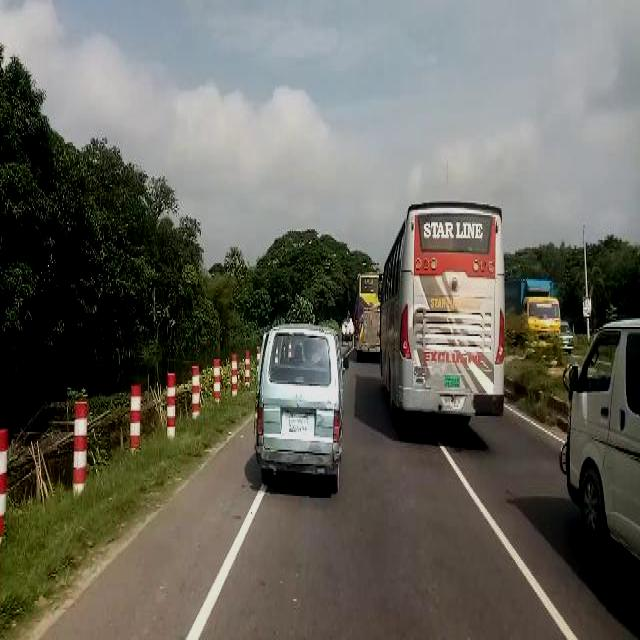BUS: (382, 193, 510, 444)
